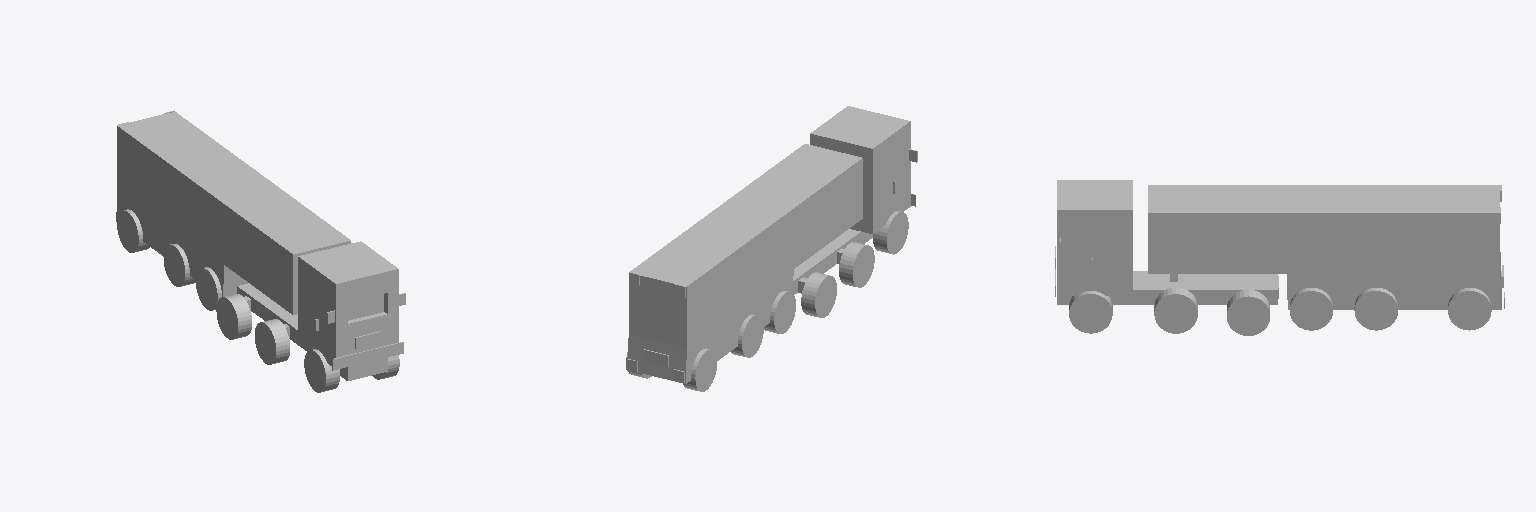
Rendered from truck.obj.
3 views of the same model, side by side, from view 1: azimuth 30°, elevation 25°; view 2: azimuth 150°, elevation 25°; view 3: azimuth 270°, elevation 25° (orthographic).
Parts seen in each view (by area): view 1: Cube; view 2: Cube; view 3: Cube.
Part boxes in pixels (bbox=[...]): Cube: bbox=[116, 111, 405, 392]; Cube: bbox=[626, 106, 917, 391]; Cube: bbox=[1055, 180, 1504, 335].
Bounding box in the file's own units: 2.99 × 4.01 × 13.42.